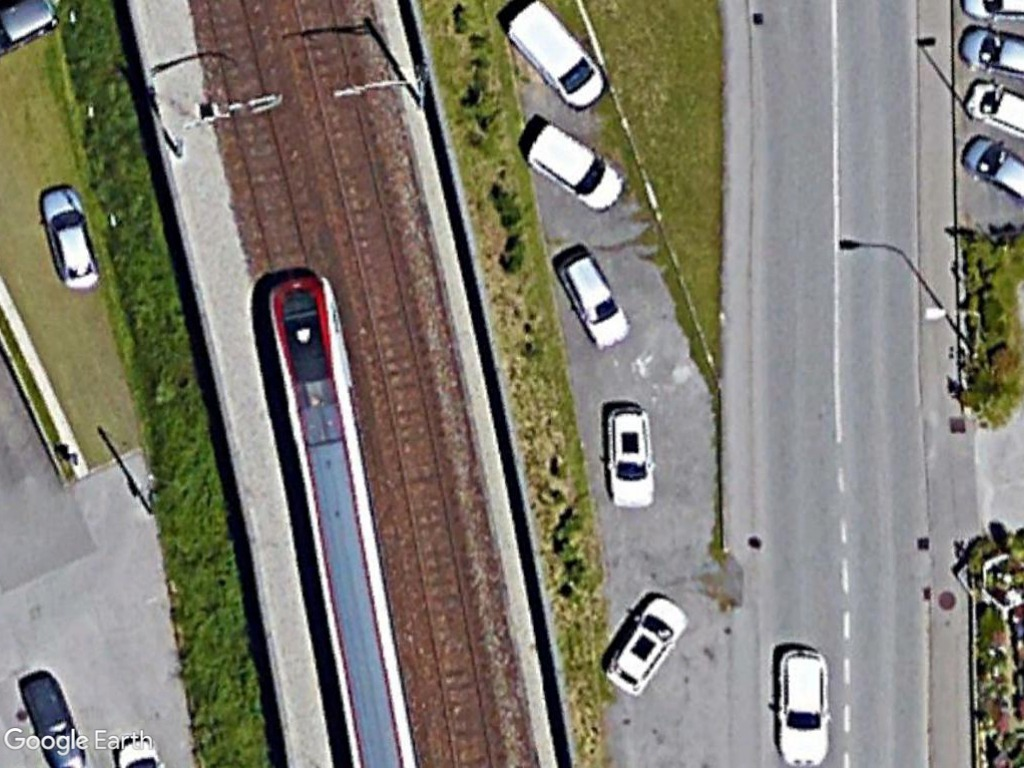car: (602, 591, 688, 696), (555, 244, 635, 354), (770, 640, 833, 768), (35, 181, 103, 293), (602, 399, 661, 512)
van: (500, 4, 608, 111), (519, 122, 628, 215)
